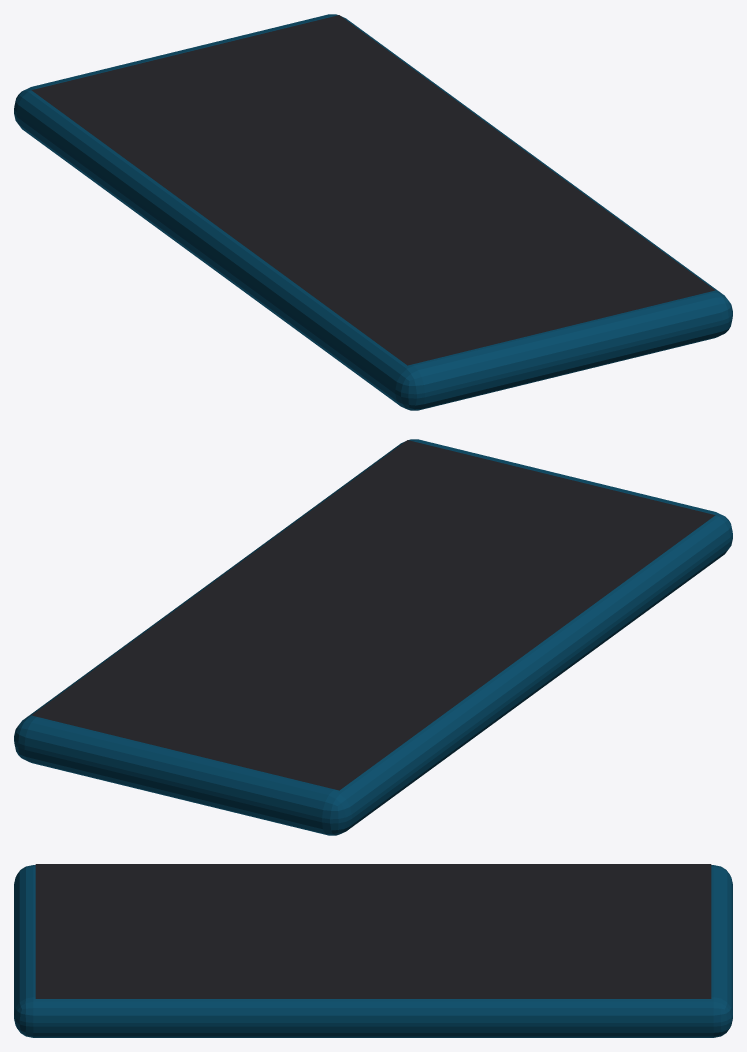
File: xiaomi-model-103-budget-2025.glb
The picture shows the model from 3 angles, top to bottom: view 1: azimuth 30°, elevation 25°; view 2: azimuth 150°, elevation 25°; view 3: azimuth 270°, elevation 25°; orthographic projection. The views are drawn at different scales.
Parts seen in each view (by area): view 1: Phone_Screen, Phone_Body; view 2: Phone_Screen, Phone_Body; view 3: Phone_Screen, Phone_Body.
Boxes of the visible parts, <box> form: Phone_Screen: <box>31,15,715,365</box>; Phone_Body: <box>14,14,732,410</box>; Phone_Screen: <box>31,440,715,790</box>; Phone_Body: <box>14,439,732,835</box>; Phone_Screen: <box>35,864,711,998</box>; Phone_Body: <box>14,865,732,1037</box>.
Size of the model in its own units: 0.0711 by 0.0089 by 0.1472.
